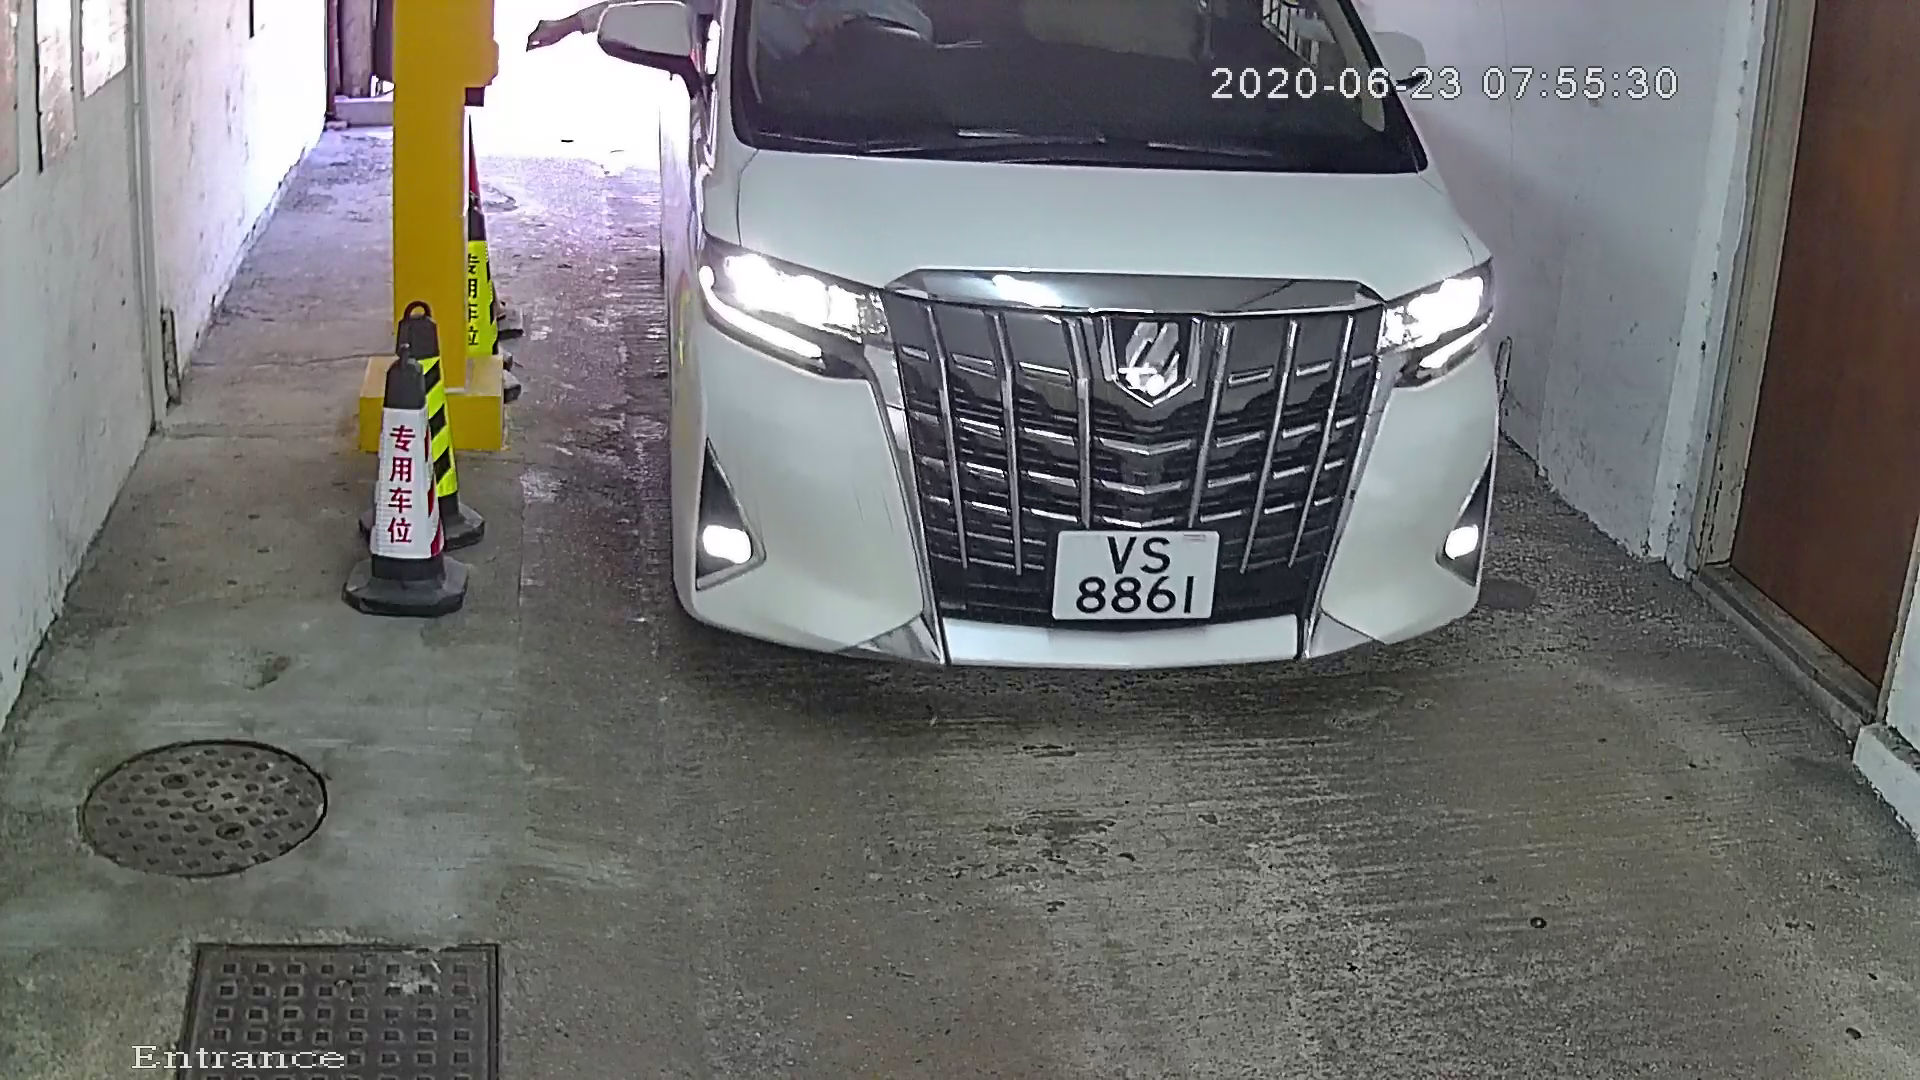privatecar: (553, 3, 1553, 764)
